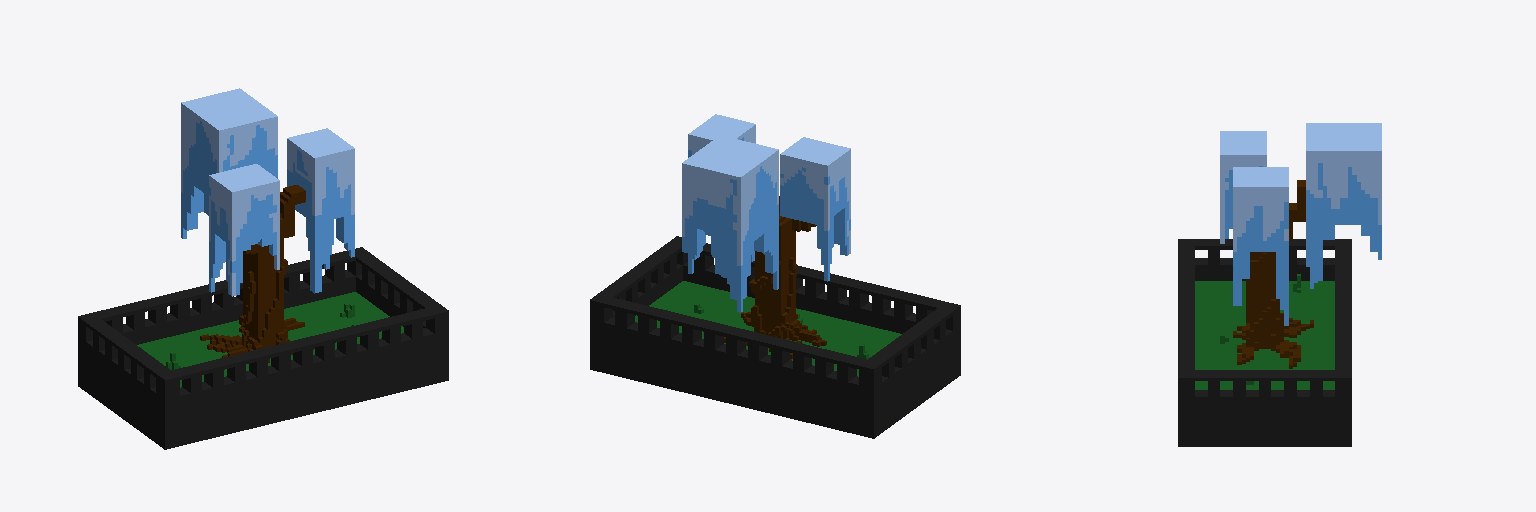
3 views of the same model, side by side, from view 1: azimuth 30°, elevation 25°; view 2: azimuth 150°, elevation 25°; view 3: azimuth 270°, elevation 25° (orthographic).
Visible parts, largest first — view 1: object 1; view 2: object 1; view 3: object 1.
Boxes of the visible parts, x1,y1,x2,y2 form: object 1: [78, 88, 448, 449]; object 1: [590, 114, 960, 438]; object 1: [1178, 123, 1381, 446].
Size of the model in its own units: 7.7 by 6.3 by 4.8.
Materials: 1 (1 with a texture image).